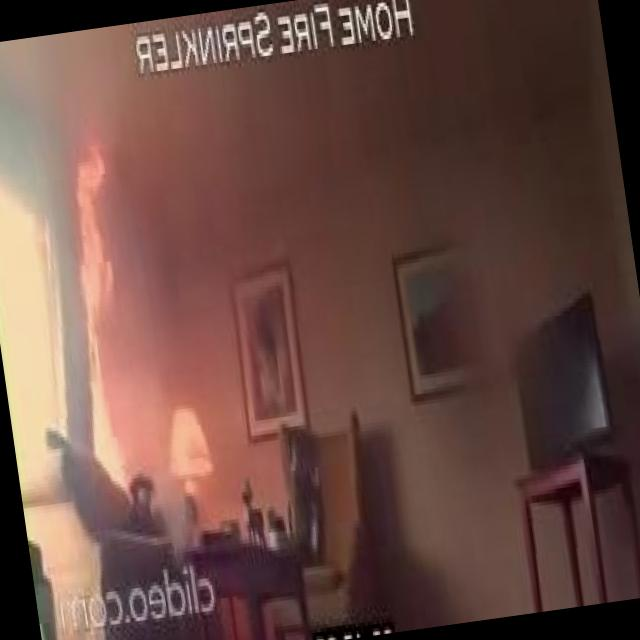fire: (33, 111, 182, 508)
